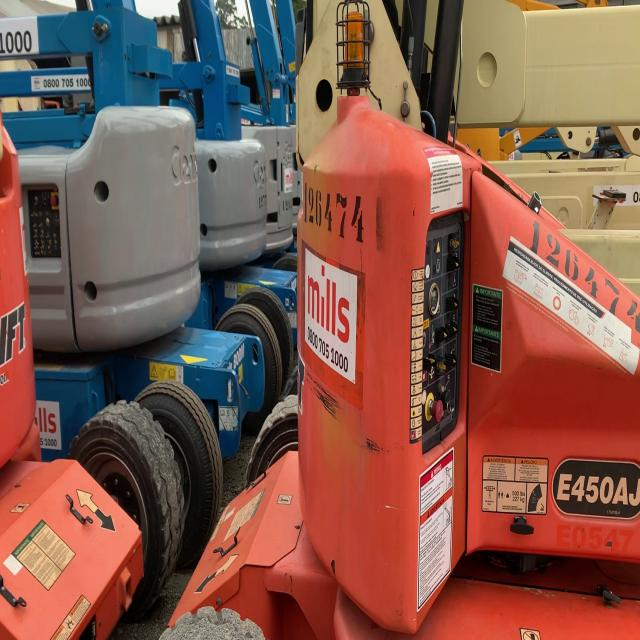Adesivos: (304, 246, 358, 390)
